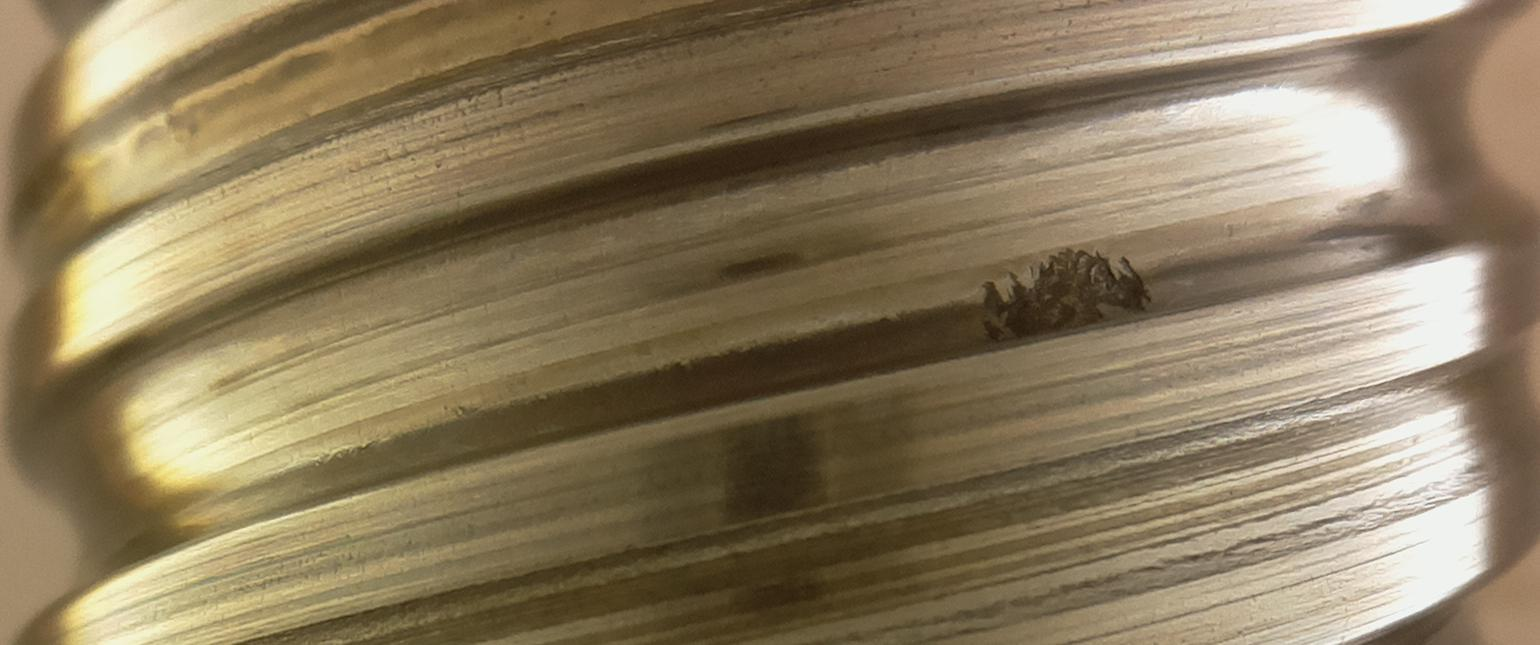pitting: (981, 248, 1151, 342)
